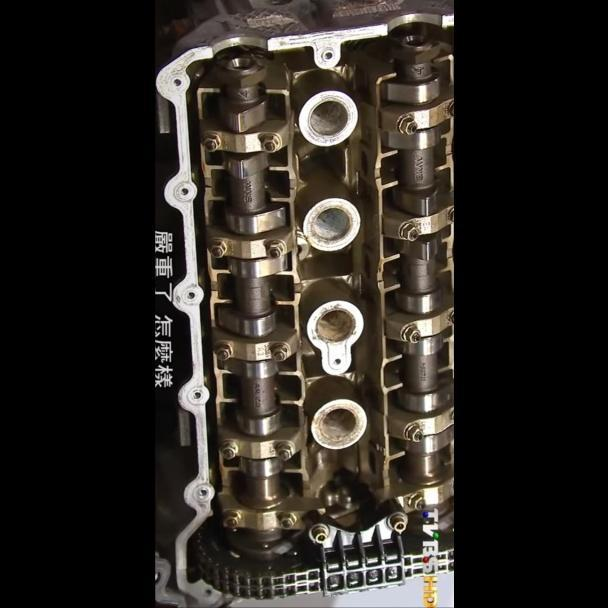hole: (321, 51, 333, 60), (186, 291, 195, 301), (172, 78, 181, 87), (192, 391, 201, 400), (198, 489, 206, 498), (180, 188, 188, 196)
